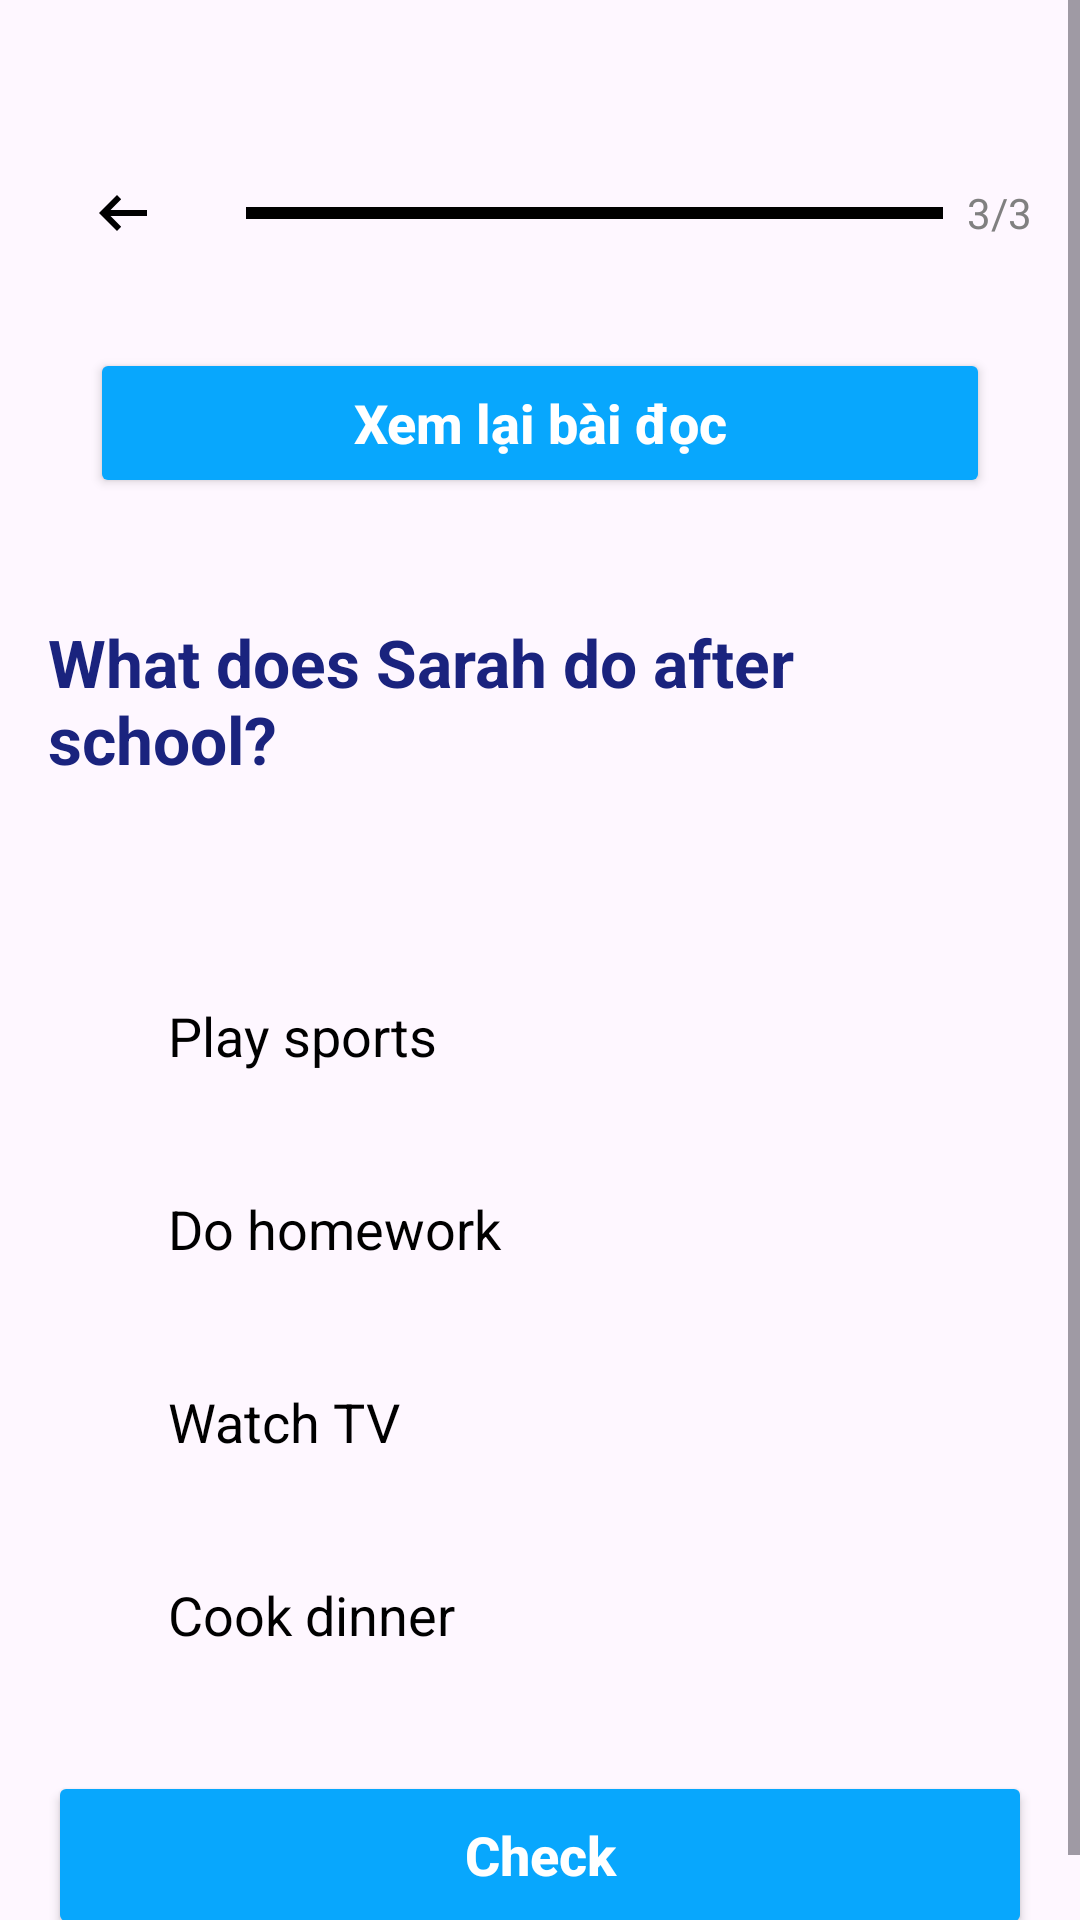

Point at icon controls on the screen. Image size 1080w x 1920h, points as point (x, y).
arrow left: point (123, 213)
